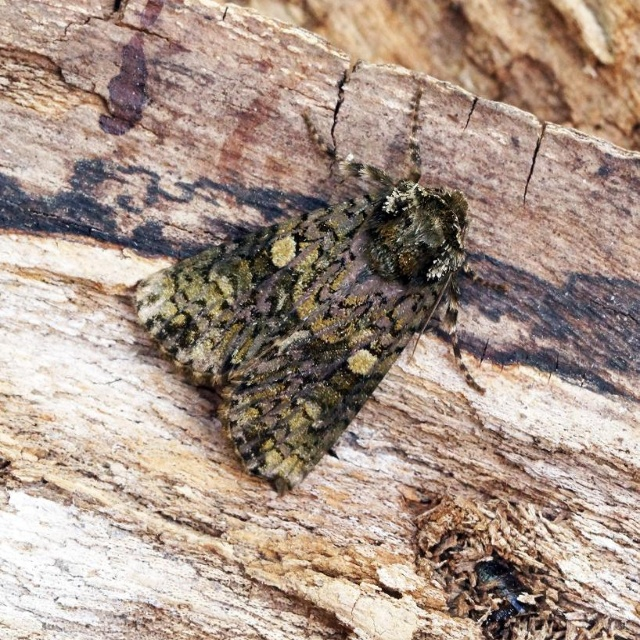Moths and butterflies: (123, 110, 485, 500)
